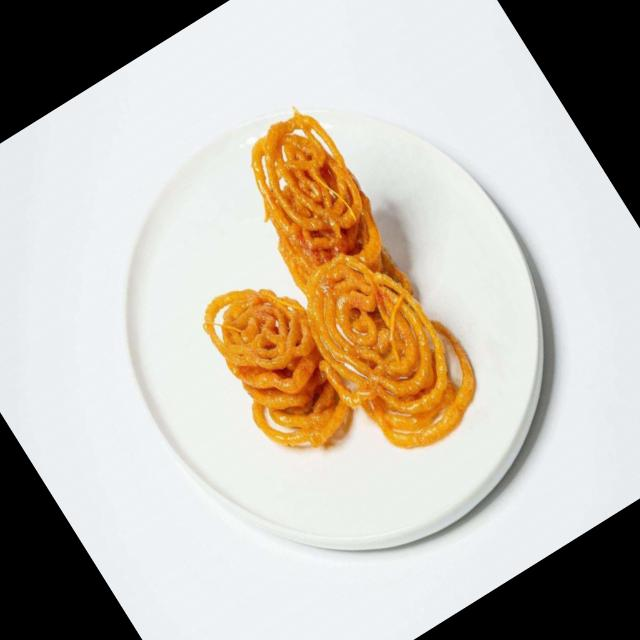jalebi: (114, 79, 512, 534)
